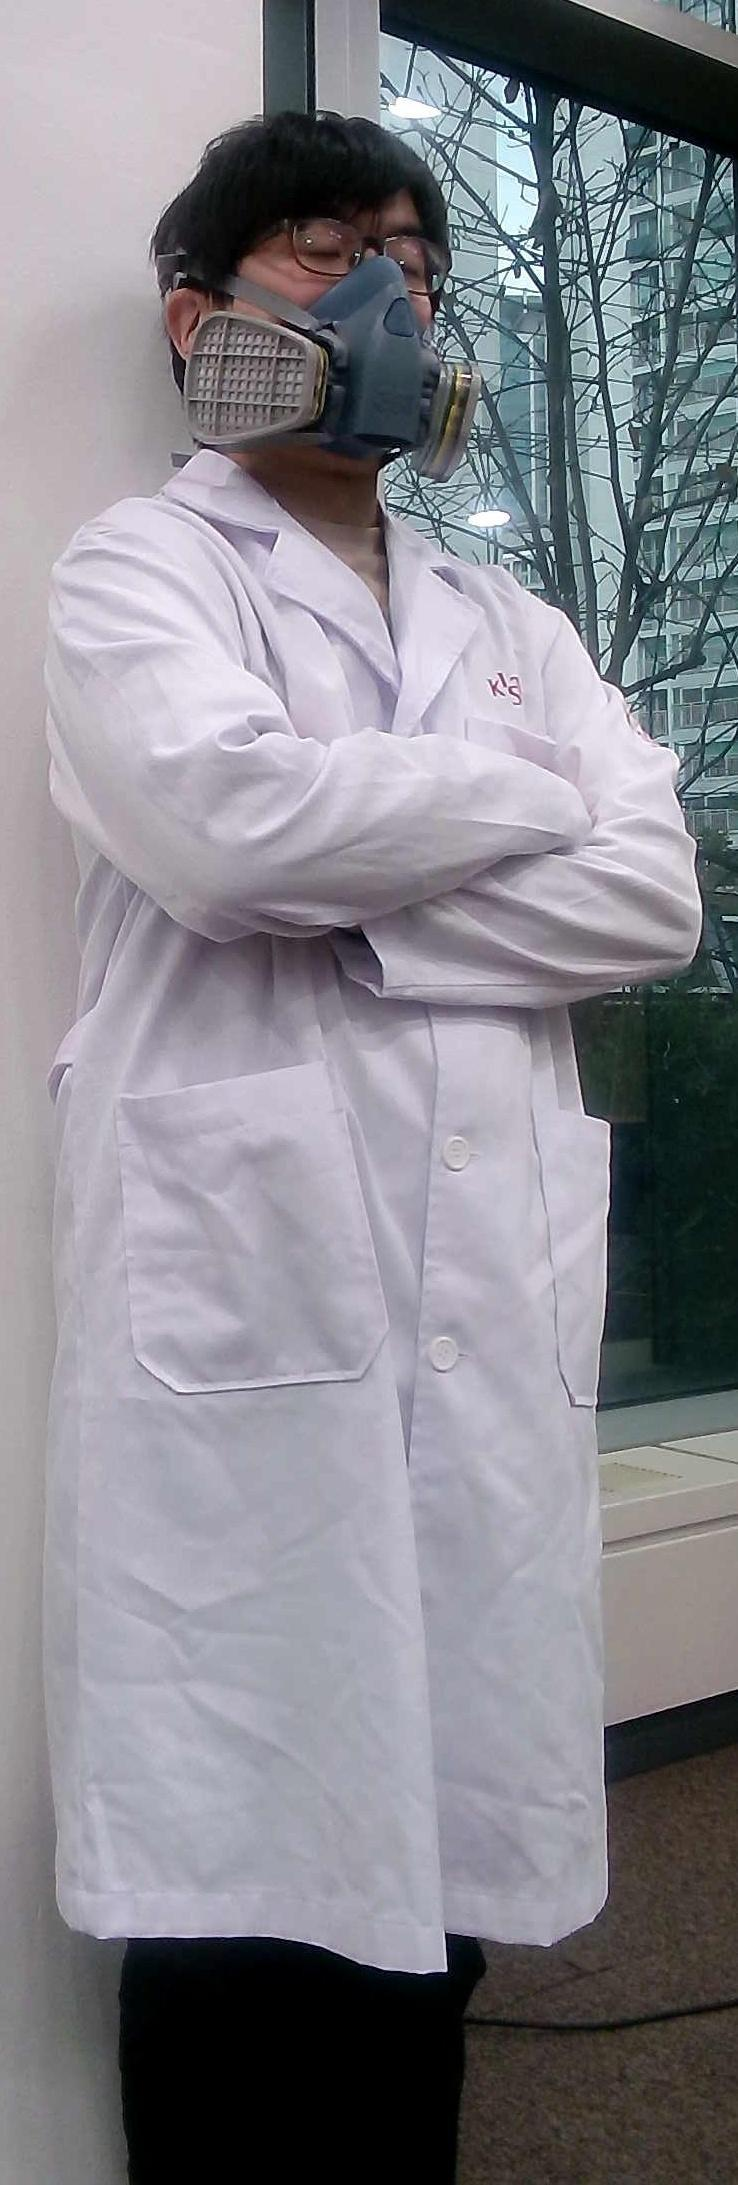lab_coat: (52, 502, 632, 1947)
